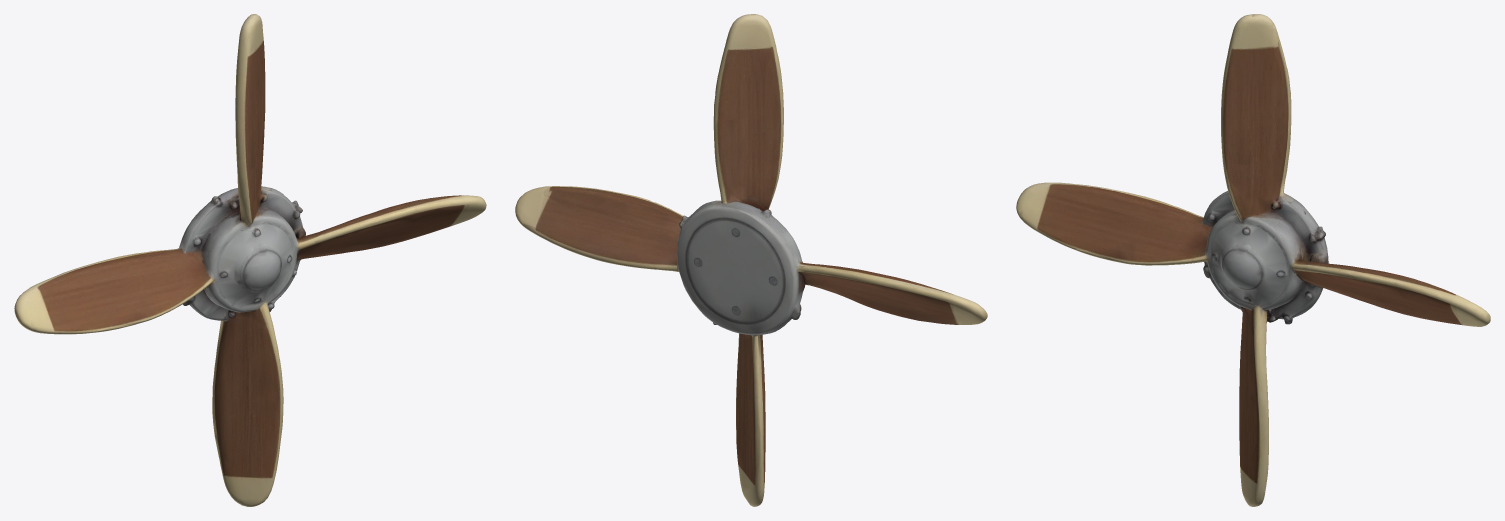
The model's file is seaplane_prop.glb.
The picture shows the model from 3 angles, left to right: view 1: azimuth 30°, elevation 25°; view 2: azimuth 150°, elevation 25°; view 3: azimuth 330°, elevation 25°; orthographic projection.
Size of the model in its own units: 2 by 2 by 0.235.
Materials: 1 (1 with a texture image).
